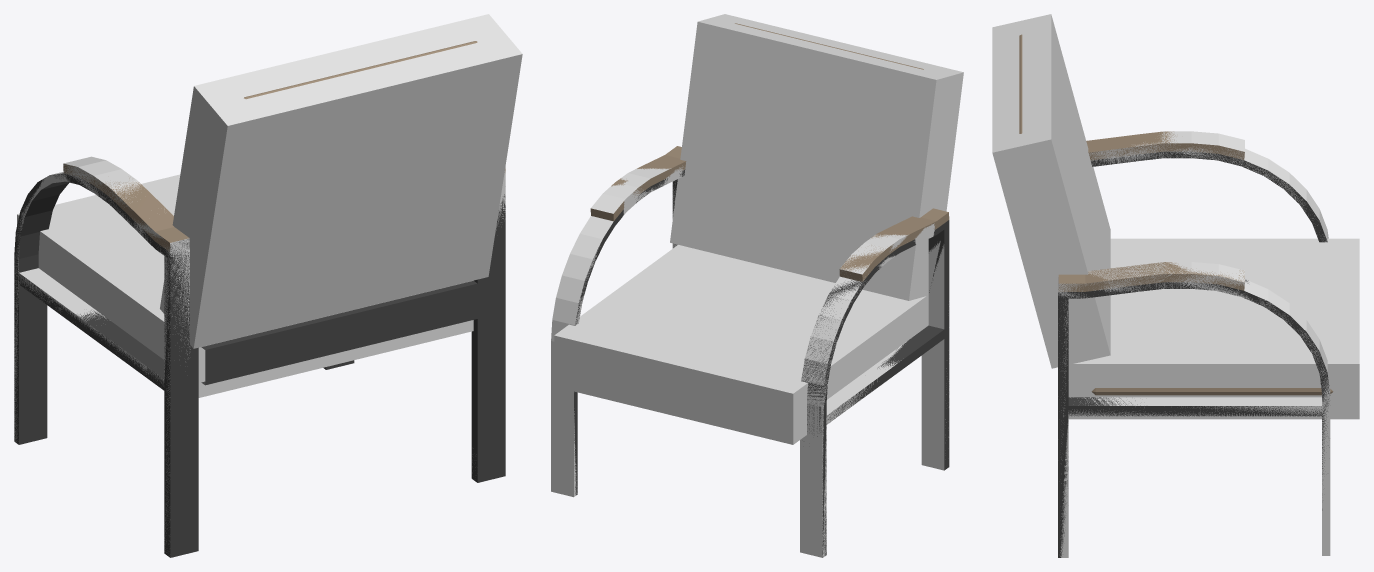
File: armchair2.fbx
The picture shows the model from 3 angles, left to right: view 1: azimuth 30°, elevation 25°; view 2: azimuth 150°, elevation 25°; view 3: azimuth 270°, elevation 25°; orthographic projection. The views are drawn at different scales.
Visible parts, largest first — view 1: Cube.001, Box003.005, Cube, Box003.002; view 2: Cube.001, Cube, Box003.002, Box003.005, Box003.001; view 3: Cube, Cube.001, Box003.005, Box003.001, Box003.002.
Part boxes in pixels (x1=…): Cube.001: x1=160, y1=14, x2=522, y2=348; Box003.005: x1=14, y1=41, x2=505, y2=557; Cube: x1=17, y1=174, x2=473, y2=397; Box003.002: x1=14, y1=156, x2=190, y2=555; Cube.001: x1=670, y1=14, x2=963, y2=300; Cube: x1=554, y1=245, x2=928, y2=444; Box003.002: x1=800, y1=223, x2=948, y2=557; Box003.005: x1=574, y1=23, x2=949, y2=556; Box003.001: x1=551, y1=165, x2=684, y2=497; Cube: x1=1068, y1=238, x2=1359, y2=419; Cube.001: x1=992, y1=14, x2=1110, y2=368; Box003.005: x1=1019, y1=34, x2=1333, y2=557; Box003.001: x1=1058, y1=262, x2=1330, y2=557; Box003.002: x1=1088, y1=131, x2=1328, y2=242.
Bounding box in the file's own units: 0.5373 × 0.7197 × 0.5849.
